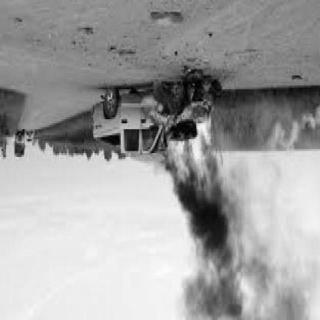Smoke: (163, 174, 259, 320)
